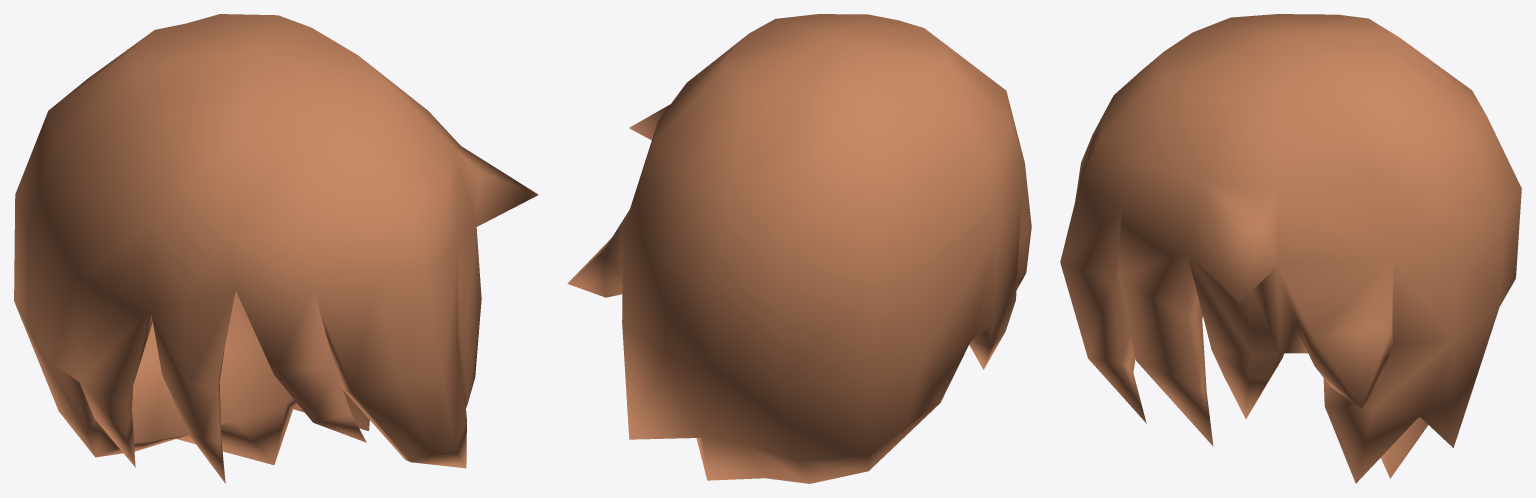
The model's file is Emo.fbx.
The picture shows the model from 3 angles, left to right: view 1: azimuth 30°, elevation 25°; view 2: azimuth 150°, elevation 25°; view 3: azimuth 270°, elevation 25°; orthographic projection. The views are drawn at different scales.
Parts seen in each view (by area): view 1: 03 Hair - Emo; view 2: 03 Hair - Emo; view 3: 03 Hair - Emo.
Part boxes in pixels (x1,y1,x2,y2): 03 Hair - Emo: [14, 14, 538, 483]; 03 Hair - Emo: [567, 14, 1031, 483]; 03 Hair - Emo: [1060, 14, 1521, 483].
Bounding box in the file's own units: 0.2724 × 0.2824 × 0.2886.
